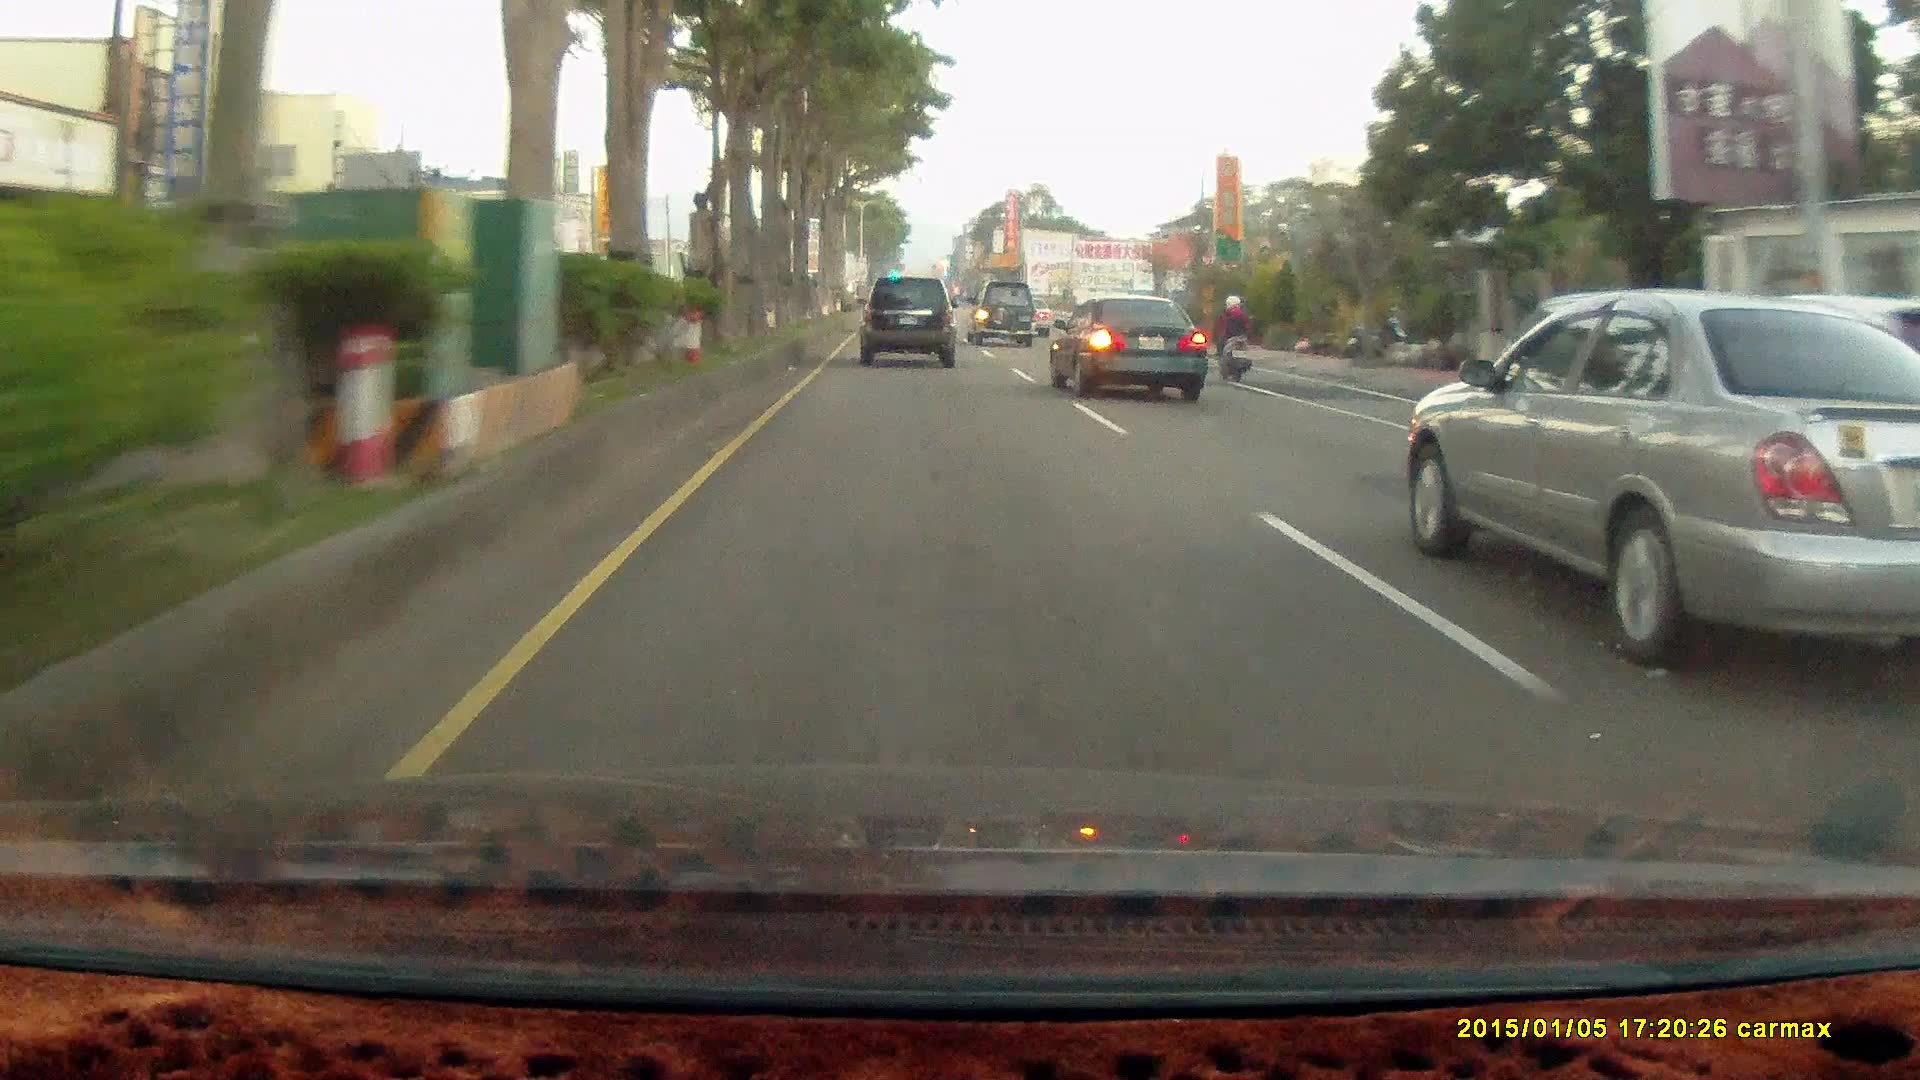rider: (1205, 286, 1259, 390), (1211, 289, 1256, 382)
vehicle: (1403, 291, 1920, 675), (1046, 291, 1206, 400), (1053, 297, 1214, 401), (861, 278, 962, 370), (852, 275, 952, 368), (966, 280, 1039, 351), (966, 279, 1039, 350)
